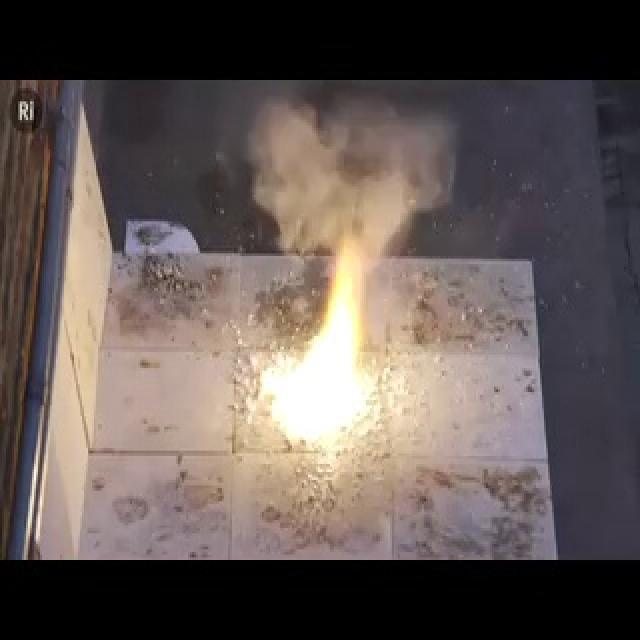fire: (257, 186, 381, 456)
